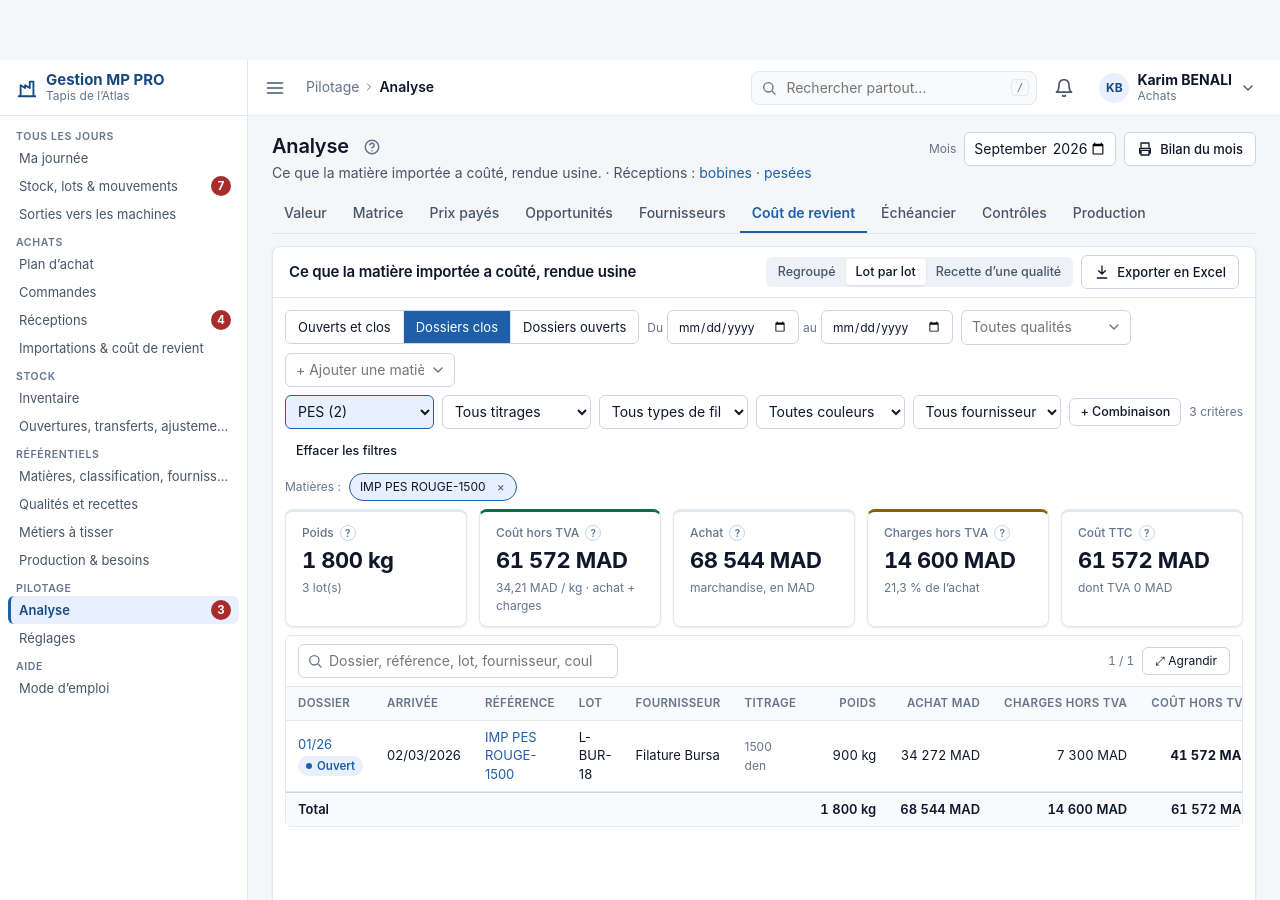
Test case: Coût de revient : les gestes écrivent l’adresse › « Effacer les filtres » dès deux critères, avec leur nombre, et garde la vue
(page scrolled)
Expected: the text "3 critères" is shown, [1189, 403, 1243, 421]
Click the button "Effacer les filtres" at {"x": 346, "y": 451}, box [285, 437, 408, 465]
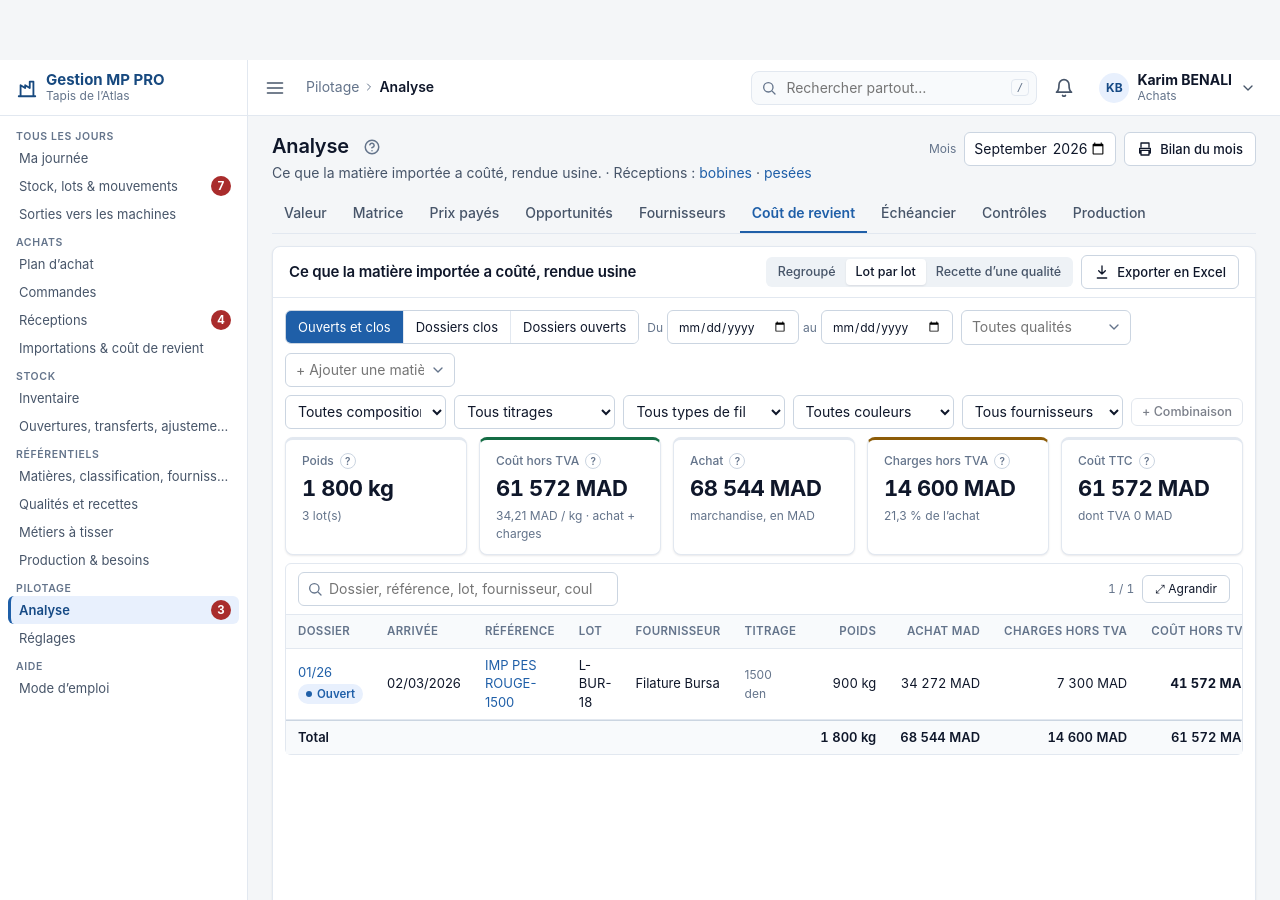
Result: the button "Effacer les filtres" is gone
